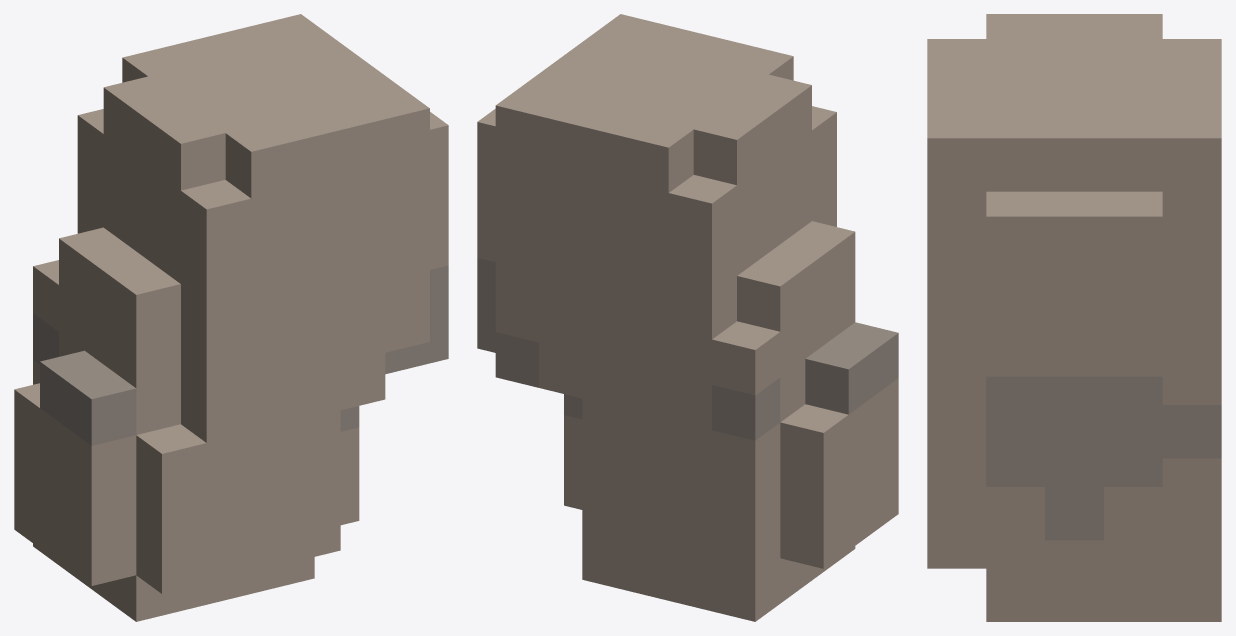
Rendered from Arm_U.obj.
3 views of the same model, side by side, from view 1: azimuth 30°, elevation 25°; view 2: azimuth 150°, elevation 25°; view 3: azimuth 270°, elevation 25° (orthographic). The views are drawn at different scales.
Size of the model in its own units: 0.8 by 1 by 0.5.
Materials: 1 (1 with a texture image).
